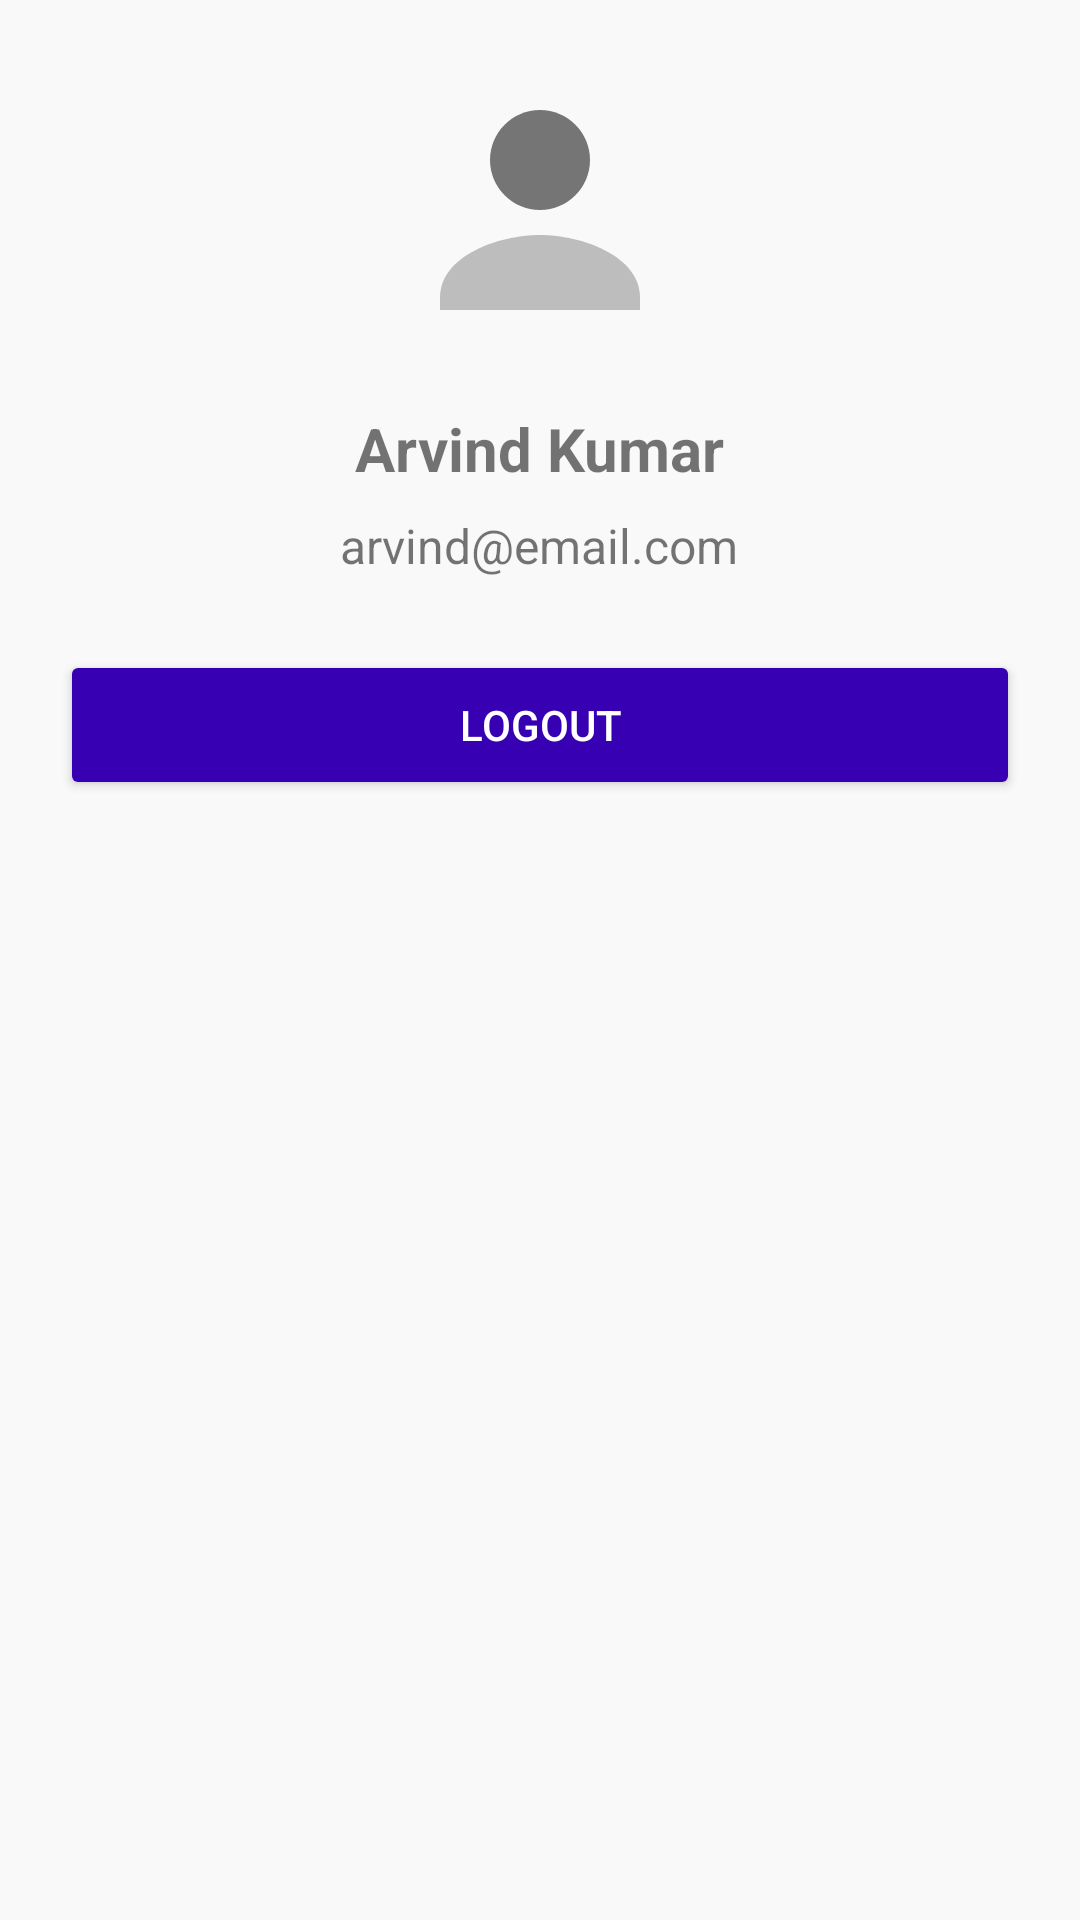

Point at icon controls on the screen. Image size 1080x1920, points as [x,y].
Profile: [540,210]
